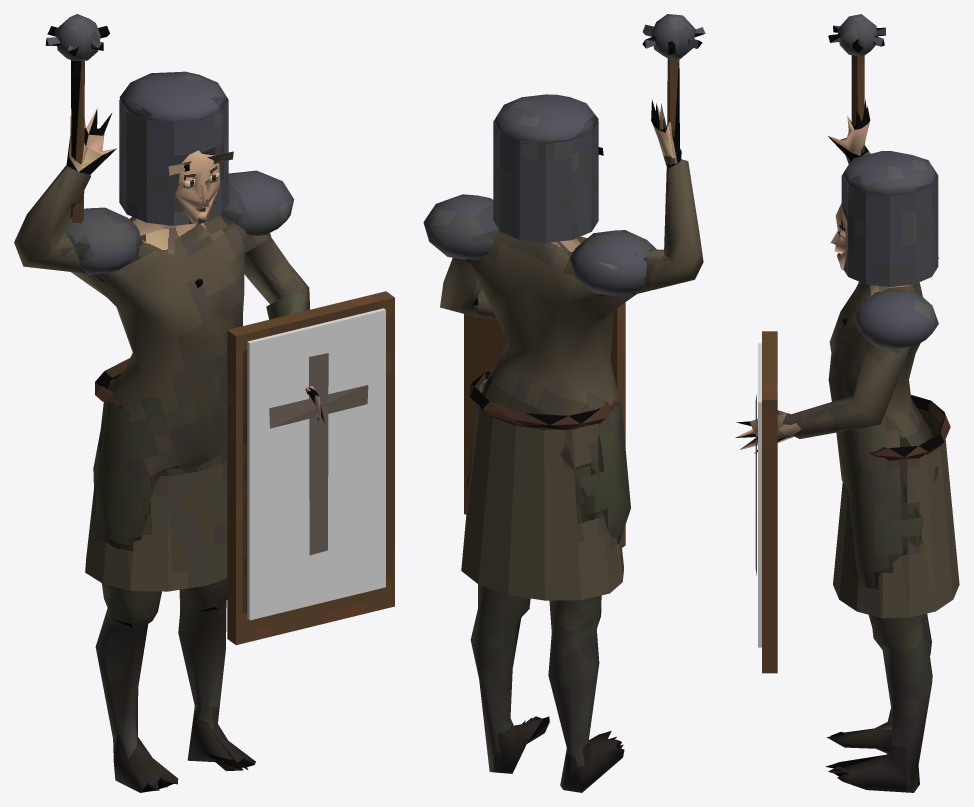
Rendered from shield.glb.
3 views of the same model, side by side, from view 1: azimuth 30°, elevation 25°; view 2: azimuth 150°, elevation 25°; view 3: azimuth 270°, elevation 25° (orthographic). The views are drawn at different scales.
Visible parts, largest first — view 1: Body, Accent; view 2: Body; view 3: Body, Accent.
Part boxes in pixels (x1,y1,x2,y2): Body: (14,14,394,792); Accent: (247,308,385,620); Body: (423,14,705,792); Body: (735,14,959,792); Accent: (758,343,761,647).
Bounding box in the file's own units: 0.4788 × 1.2 × 0.3456.
2 materials, 1 textured.
